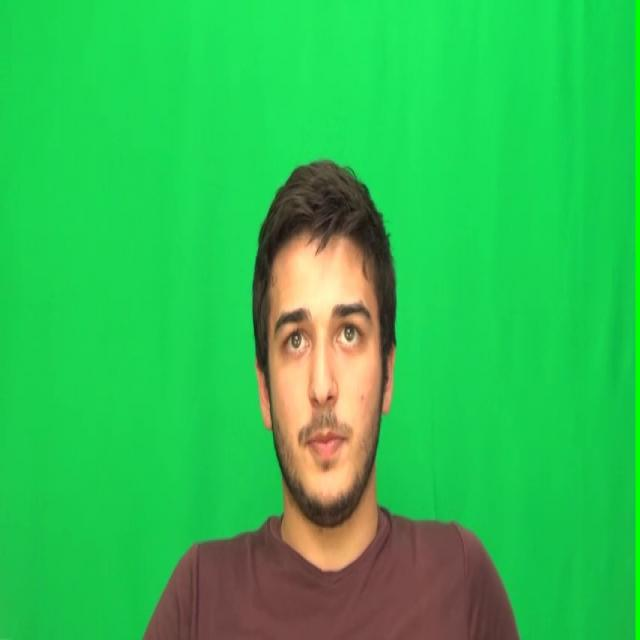Engaged: (263, 233, 382, 510)
